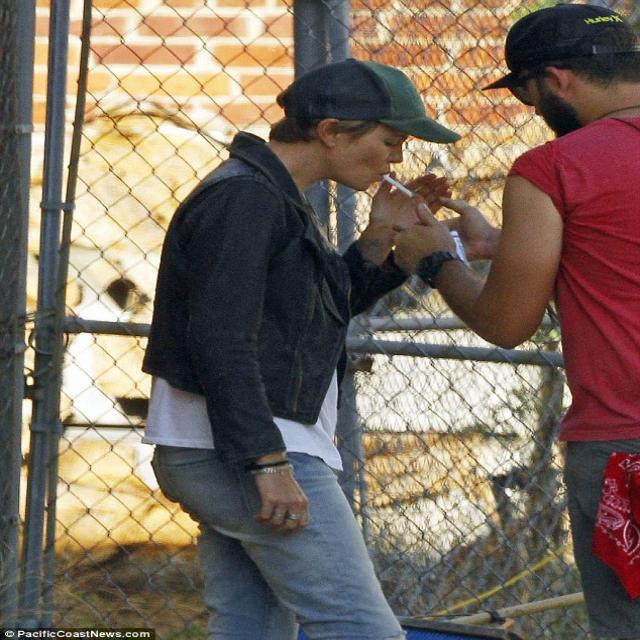cigarette: (383, 174, 414, 198)
